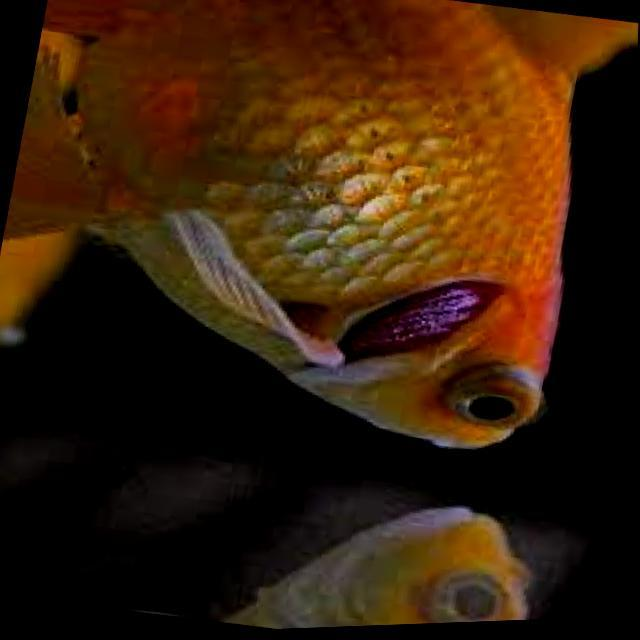Gill Disease: (144, 183, 610, 461)
